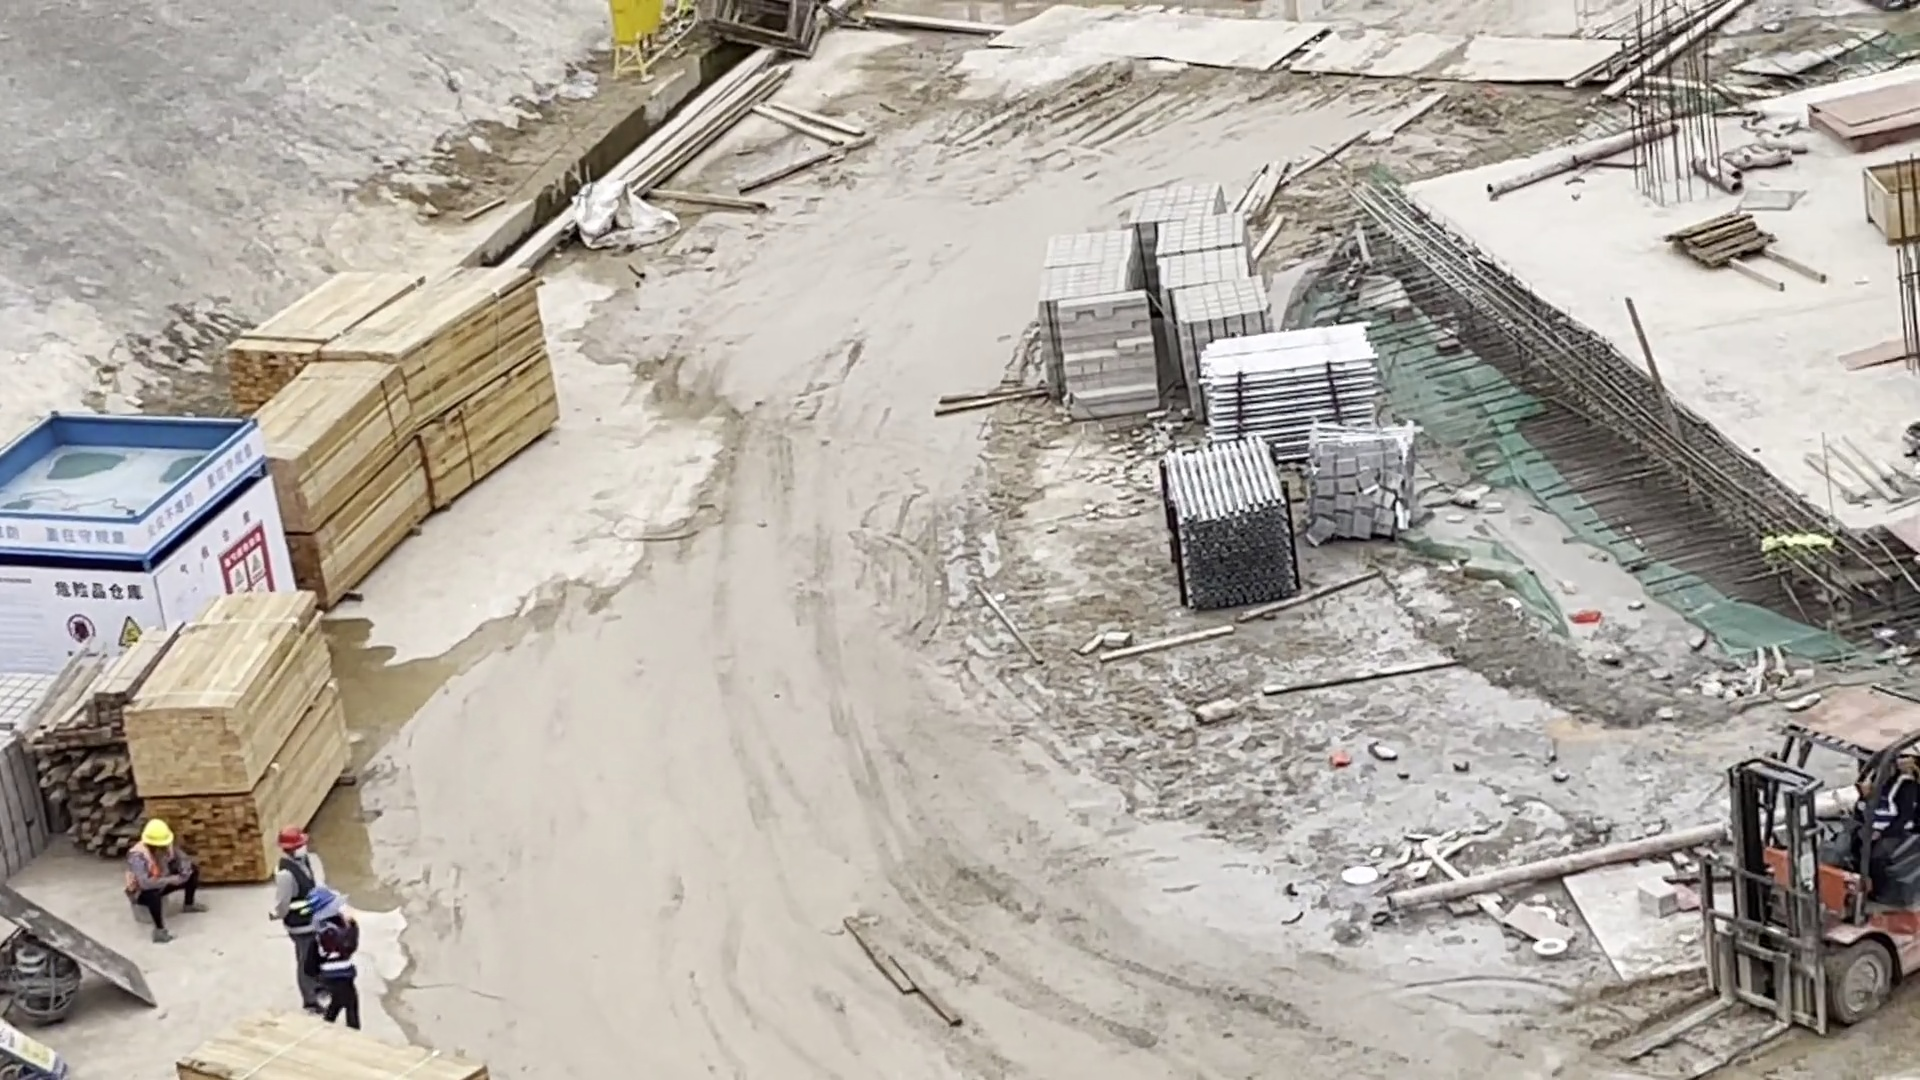brick: (1131, 184, 1272, 412), (1040, 228, 1147, 419), (1, 676, 57, 885)
helmet: (142, 819, 174, 846), (278, 826, 310, 848), (311, 885, 332, 908)
person: (267, 825, 331, 1017), (124, 817, 214, 945), (306, 885, 365, 1033)
scaffold: (1203, 322, 1373, 463), (1165, 435, 1292, 608)
slogan: (1, 515, 143, 561)
vest: (277, 855, 319, 935), (126, 842, 172, 897), (314, 926, 352, 976)
wood: (227, 271, 560, 507), (124, 591, 353, 881), (260, 362, 431, 611), (34, 624, 139, 857)
